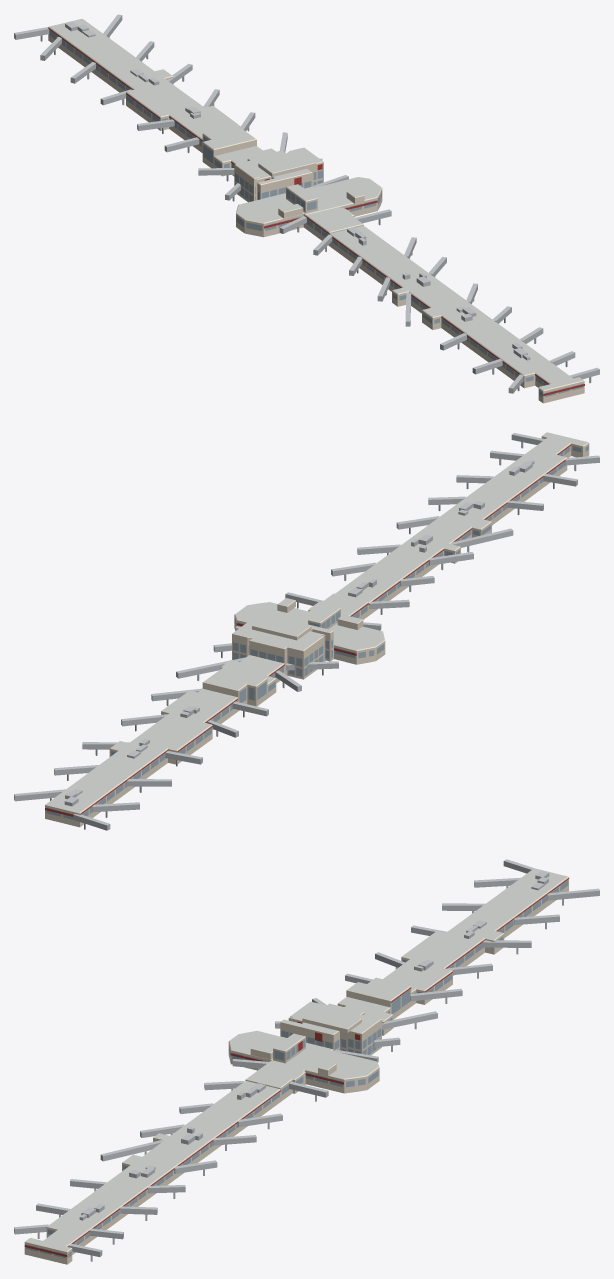
Rendered from atl-hartsfield-jackson-concourse-b.glb.
The picture shows the model from 3 angles, top to bottom: view 1: azimuth 30°, elevation 25°; view 2: azimuth 150°, elevation 25°; view 3: azimuth 330°, elevation 25°; orthographic projection. The views are drawn at different scales.
Visible parts, largest first — view 1: Hartsfield-Jackson Concourse B; view 2: Hartsfield-Jackson Concourse B; view 3: Hartsfield-Jackson Concourse B.
Part boxes in pixels (box(x1,y1,x2,y2)): Hartsfield-Jackson Concourse B: box(14, 14, 599, 403); Hartsfield-Jackson Concourse B: box(14, 432, 599, 830); Hartsfield-Jackson Concourse B: box(14, 859, 599, 1264).
Size of the model in its own units: 112 by 25 by 709.
